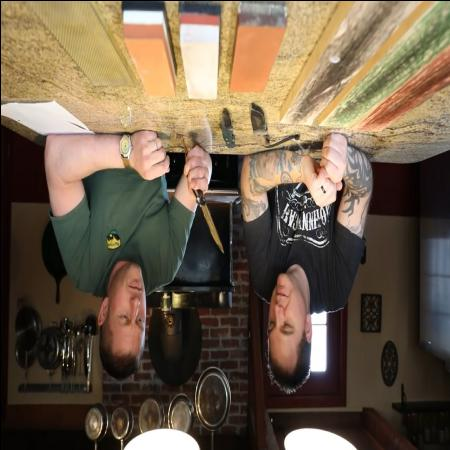long weapon: (180, 154, 227, 266)
